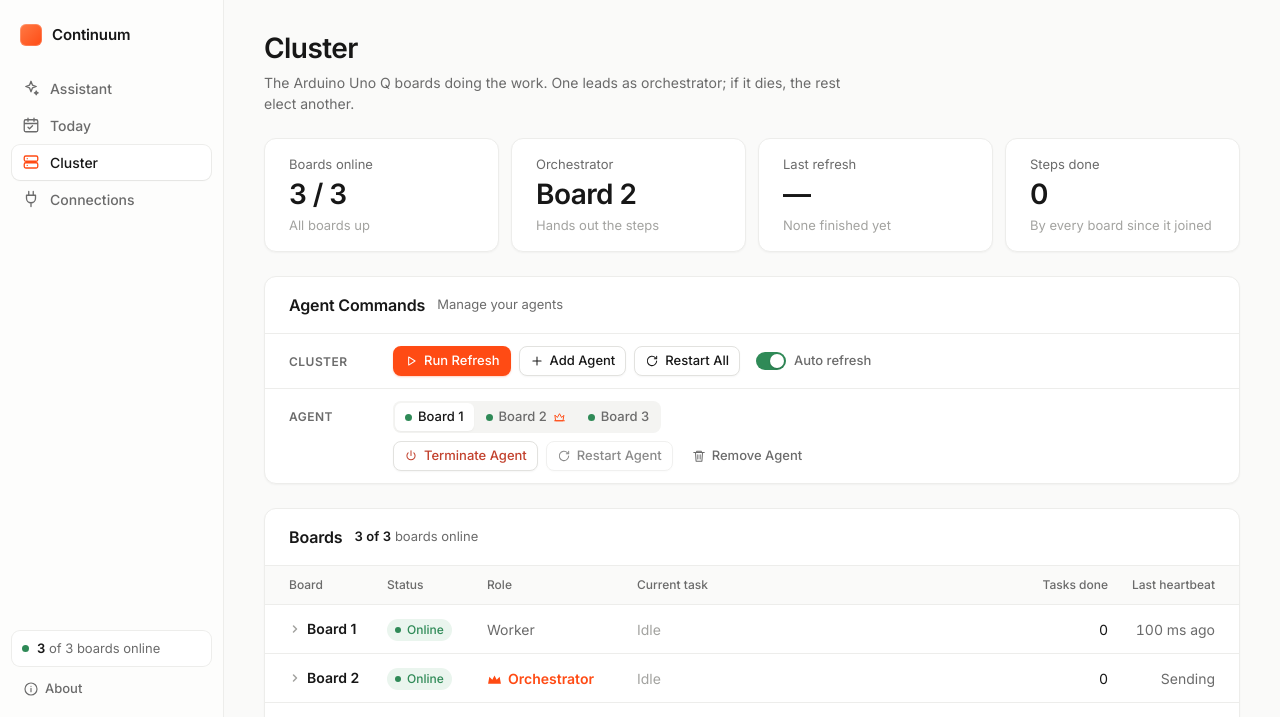
Test: Agent Commands › sends nothing when a terminate is cancelled or the target changes
This screenshot has width=1280, height=717.
Click the button "Terminate Agent": click(465, 456) [393,441,538,471]
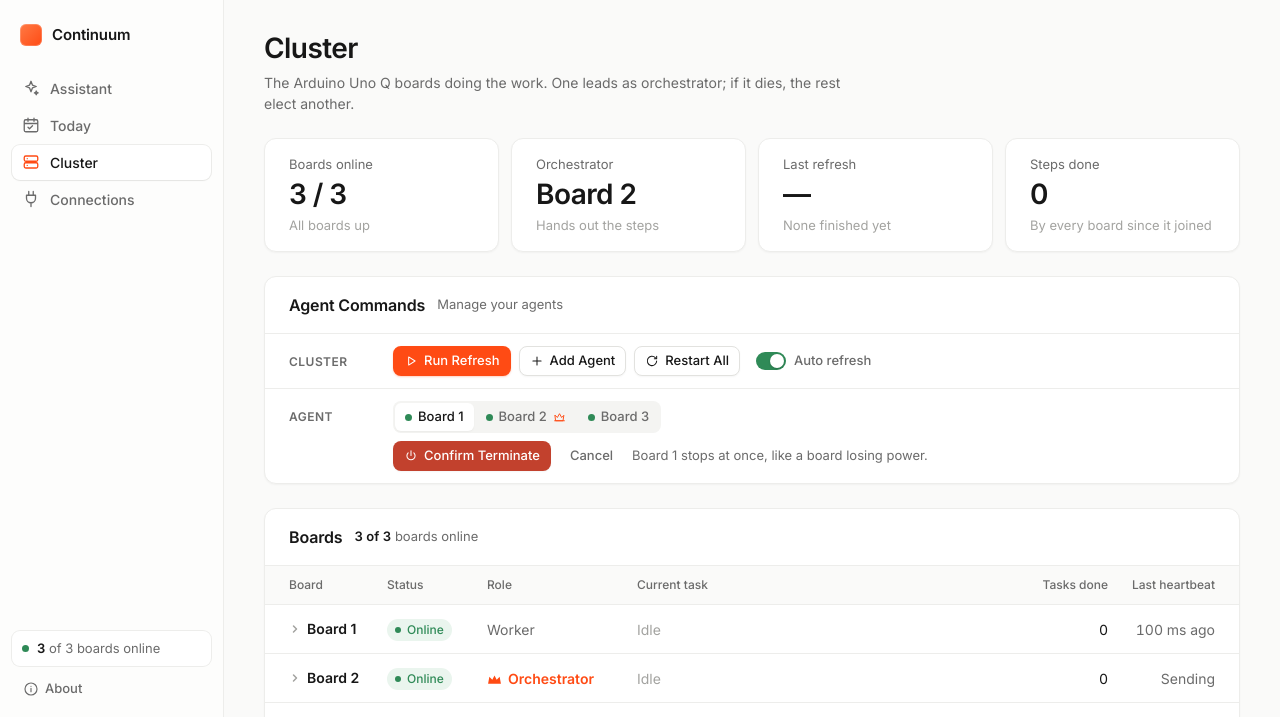
Click the button "Cancel": click(592, 456) [559,441,624,471]
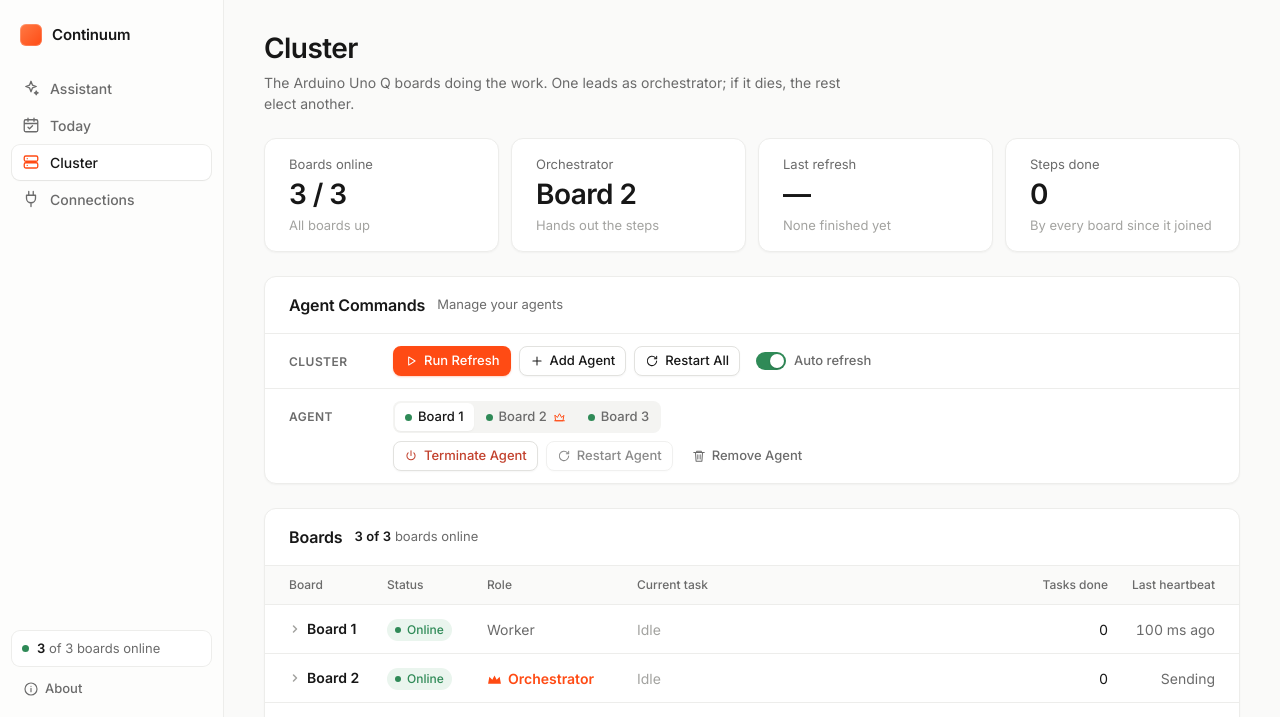
Click the button "Terminate Agent": click(465, 456) [393,441,538,471]
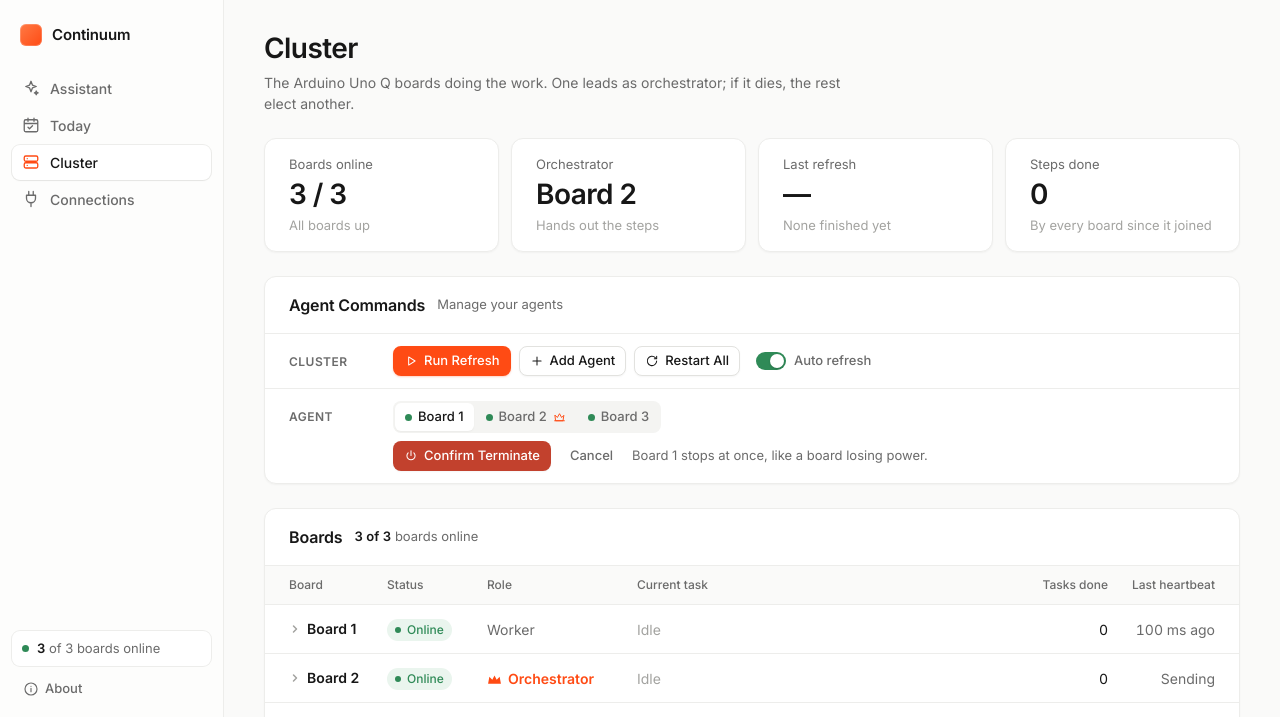
Click the button "Board 2" below "Auto refresh": click(526, 417) [476,403,576,431]
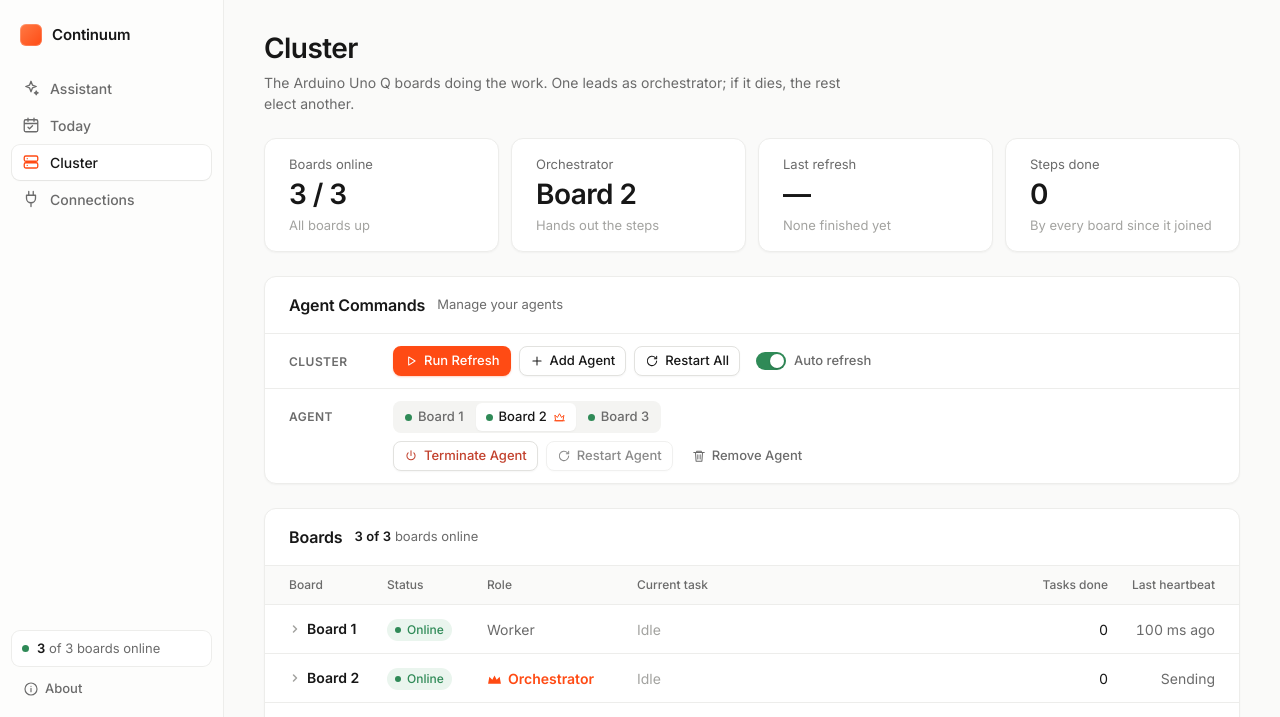
expect the button "Confirm Terminate" is gone: met
